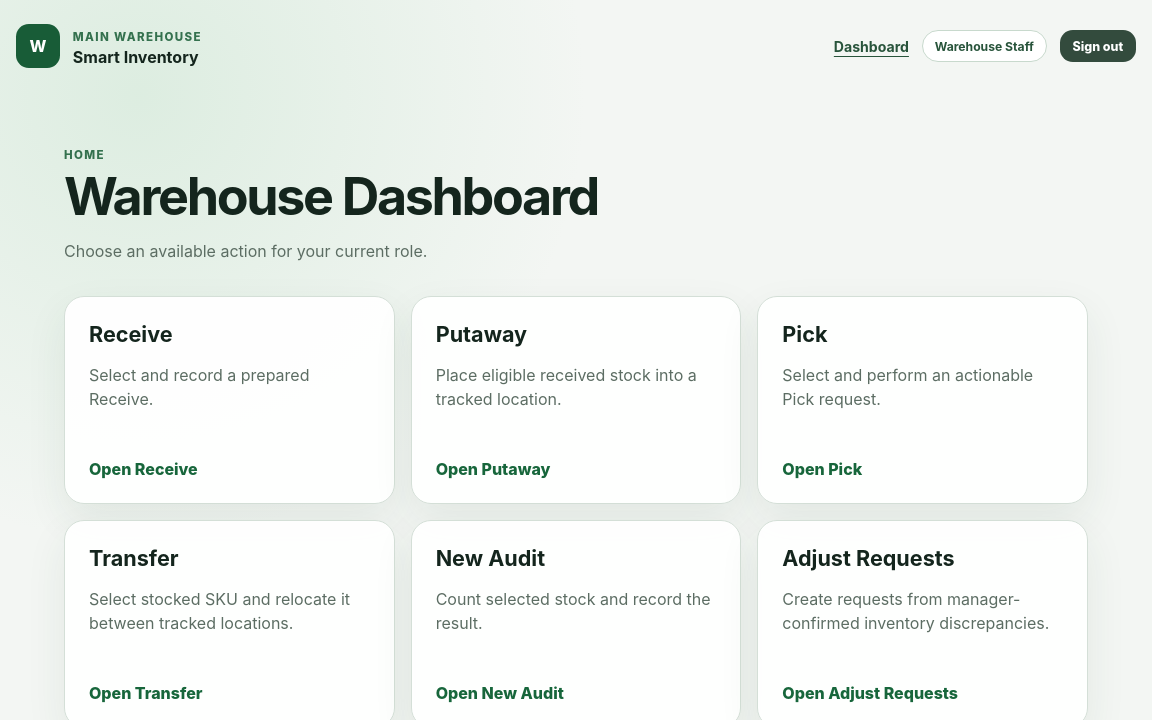
it: clears frontend actor state after a successful logout
Click the button "Sign out": (1098, 46) x1=1060 y1=30 x2=1136 y2=62
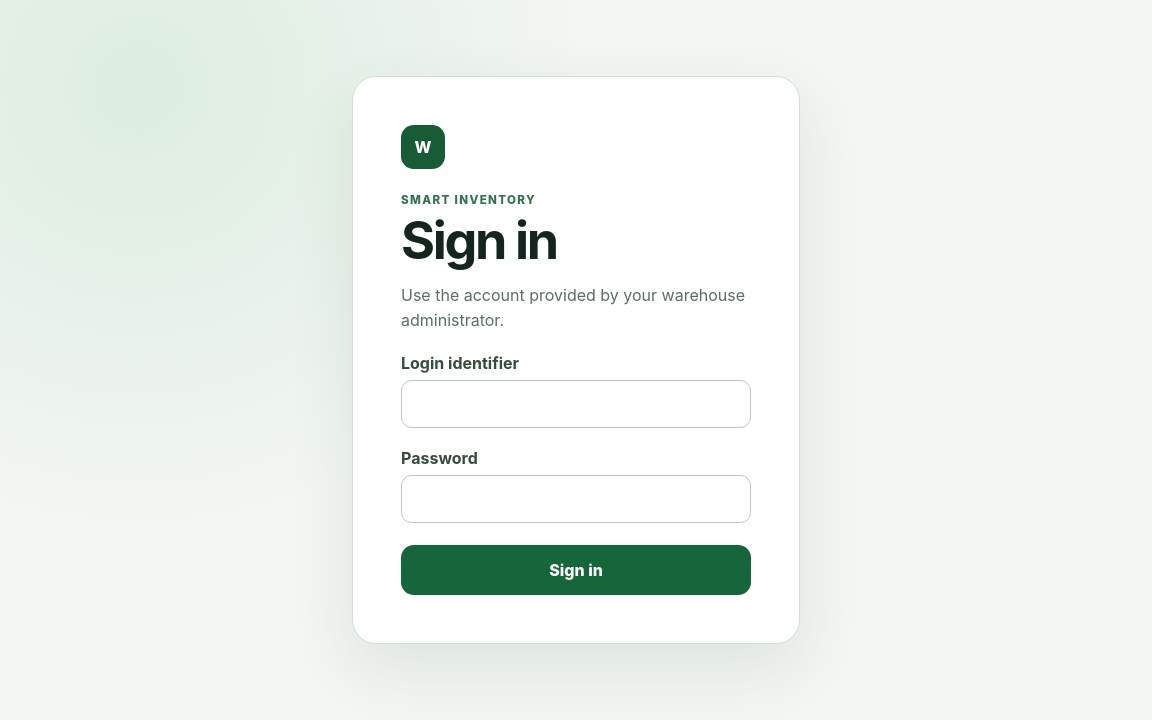
Check: the heading "Sign in" is shown, box x1=401 y1=209 x2=557 y2=272
